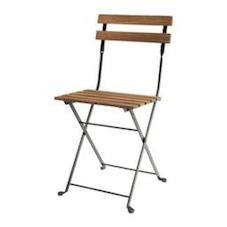chair: (17, 6, 208, 217)
